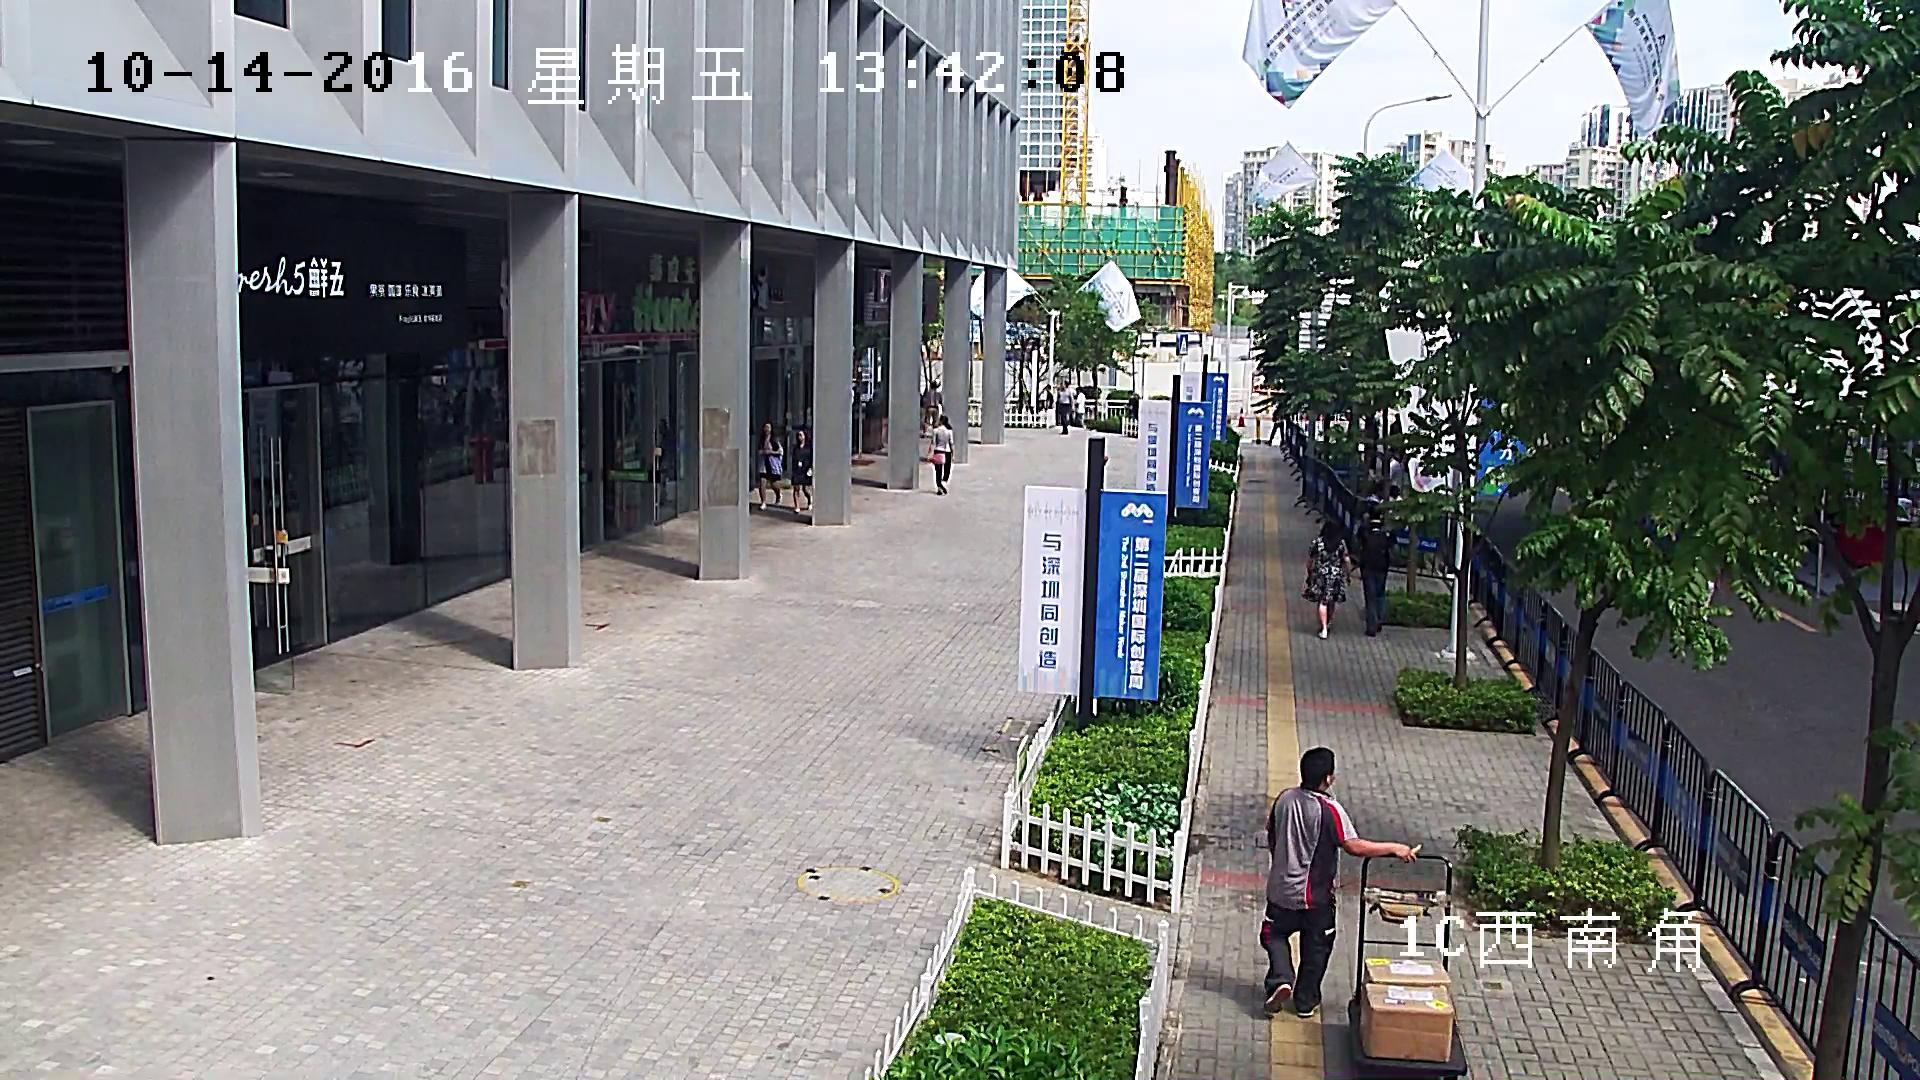person: (1260, 746, 1469, 1079), (1260, 746, 1422, 1013), (1301, 519, 1352, 639), (755, 420, 783, 511), (927, 415, 955, 495), (791, 428, 813, 512), (920, 381, 943, 438), (1059, 381, 1073, 435), (1074, 387, 1085, 427)
